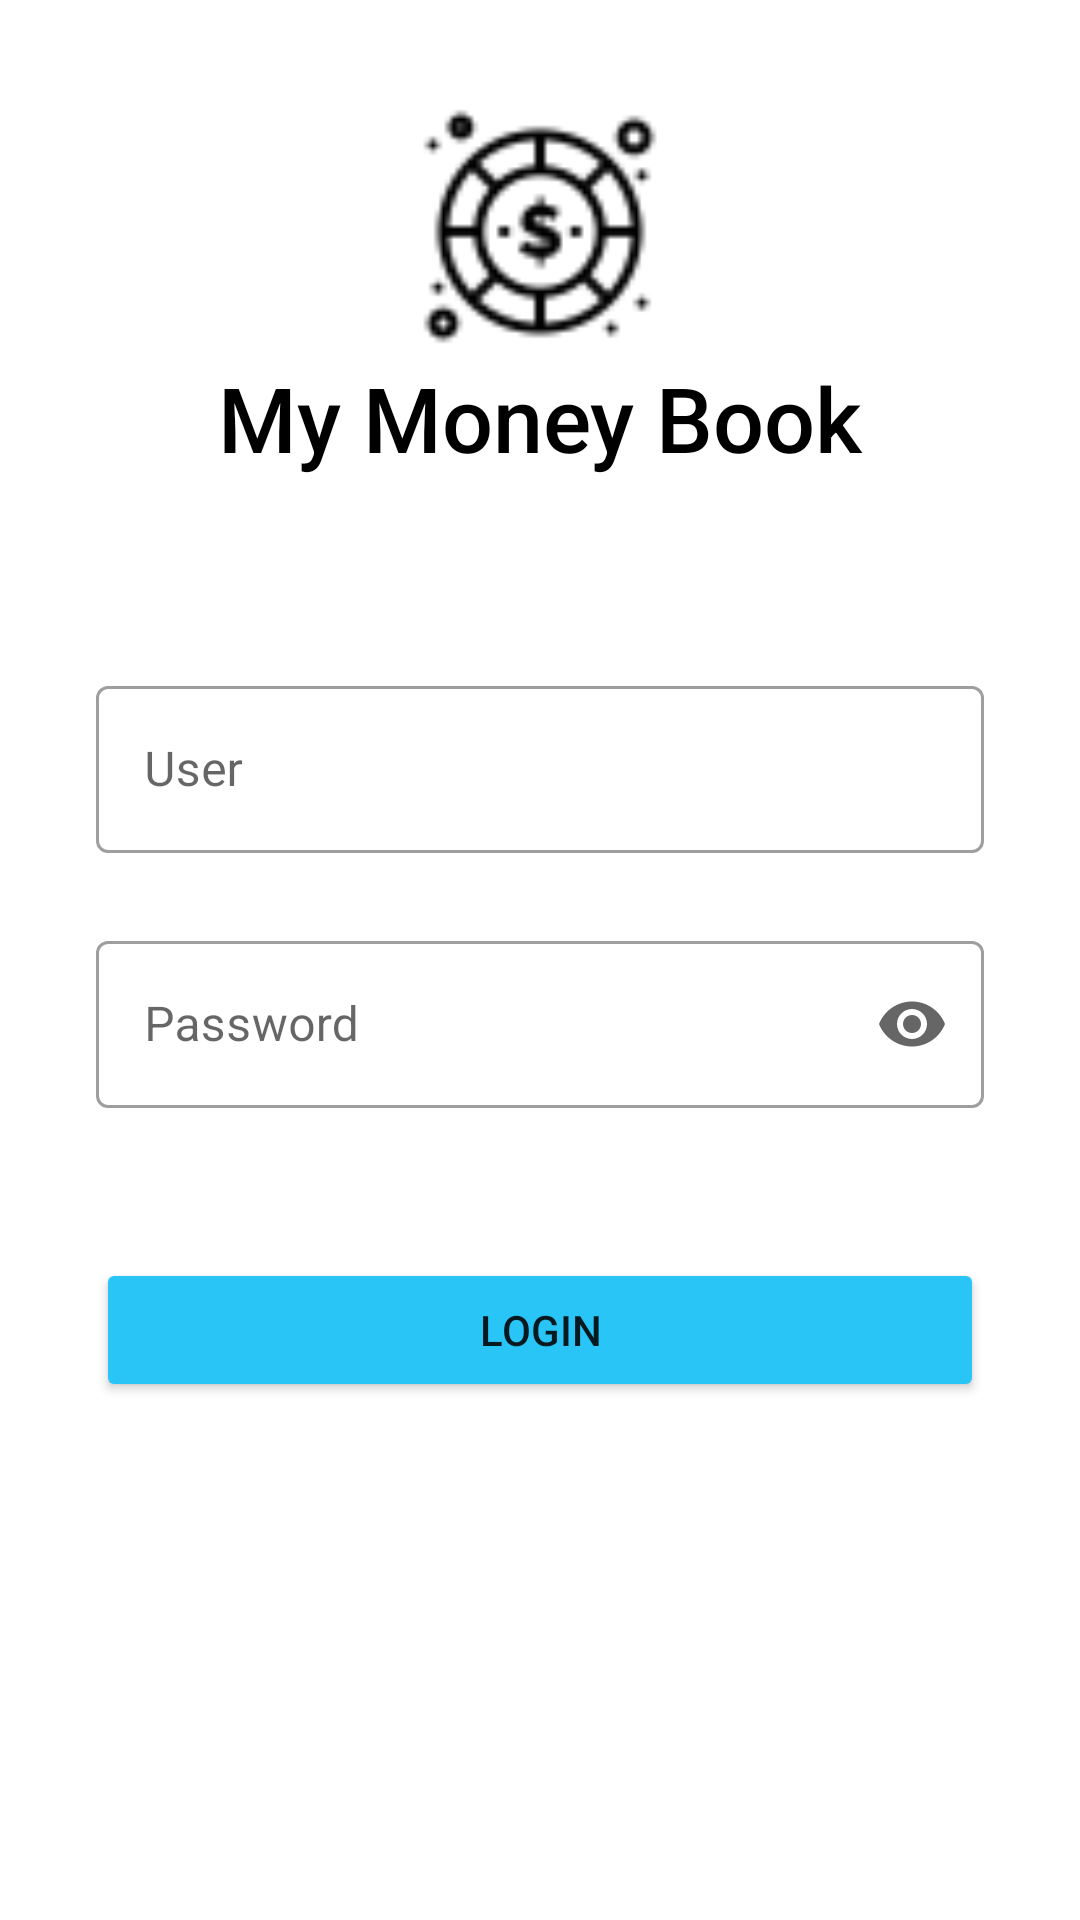

Where to tap for icons on this 1080x1920 app screen, as [x,y]:
coin: [540,226]
